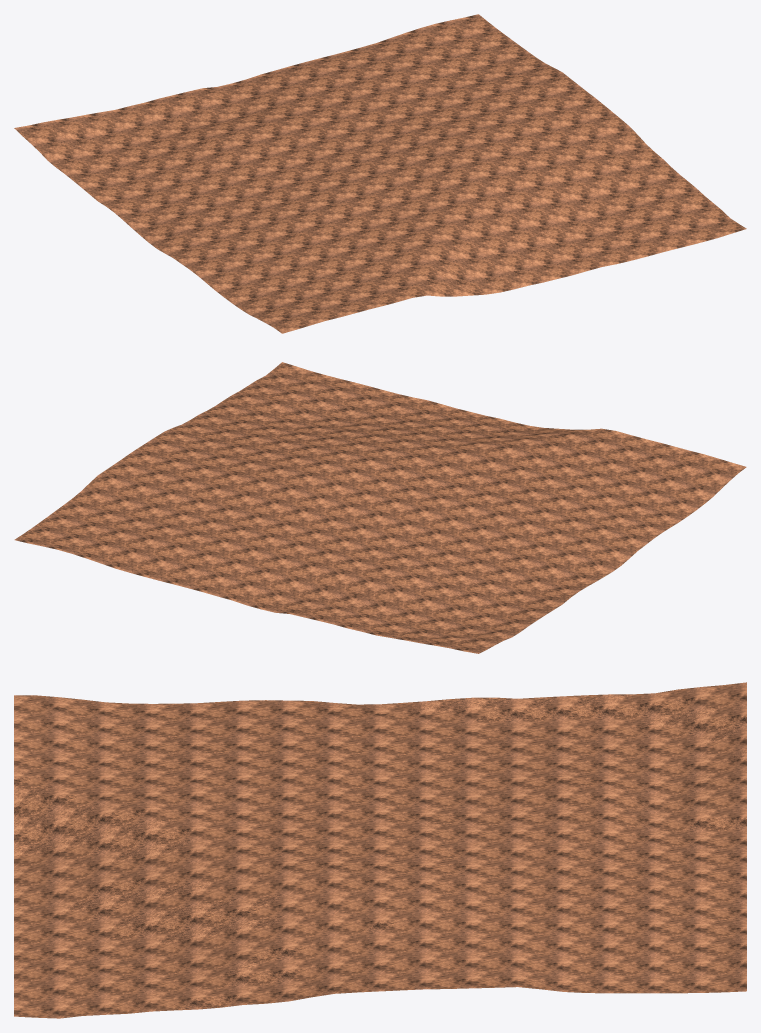
File: terrain_11_18.dae
3 views of the same model, one above another, from view 1: azimuth 30°, elevation 25°; view 2: azimuth 150°, elevation 25°; view 3: azimuth 270°, elevation 25° (orthographic). The views are drawn at different scales.
Parts seen in each view (by area): view 1: terrain_11_18-node; view 2: terrain_11_18-node; view 3: terrain_11_18-node.
Part boxes in pixels (box(x1,y1,x2,y2)): terrain_11_18-node: box(14, 14, 746, 333); terrain_11_18-node: box(14, 362, 746, 653); terrain_11_18-node: box(14, 682, 746, 1018).
Bounding box in the file's own units: 128 × 128 × 6.77.
1 material, 1 textured.
